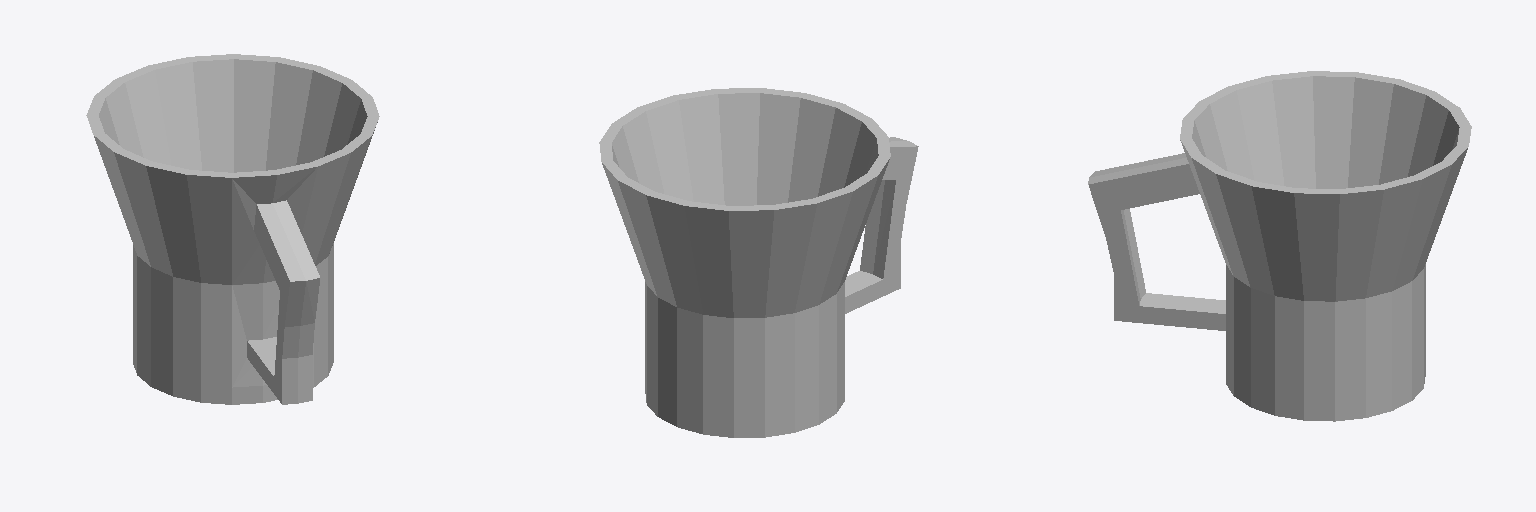
The model's file is Galley_Coffee-mug.obj.
3 views of the same model, side by side, from view 1: azimuth 30°, elevation 25°; view 2: azimuth 150°, elevation 25°; view 3: azimuth 270°, elevation 25° (orthographic).
Visible parts, largest first — view 1: default; view 2: default; view 3: default.
Part boxes in pixels (x1,y1,x2,y2): default: (86,54,379,404); default: (599,88,918,437); default: (1088,71,1471,421).
Size of the model in its own units: 1.92 by 1.79 by 2.52.